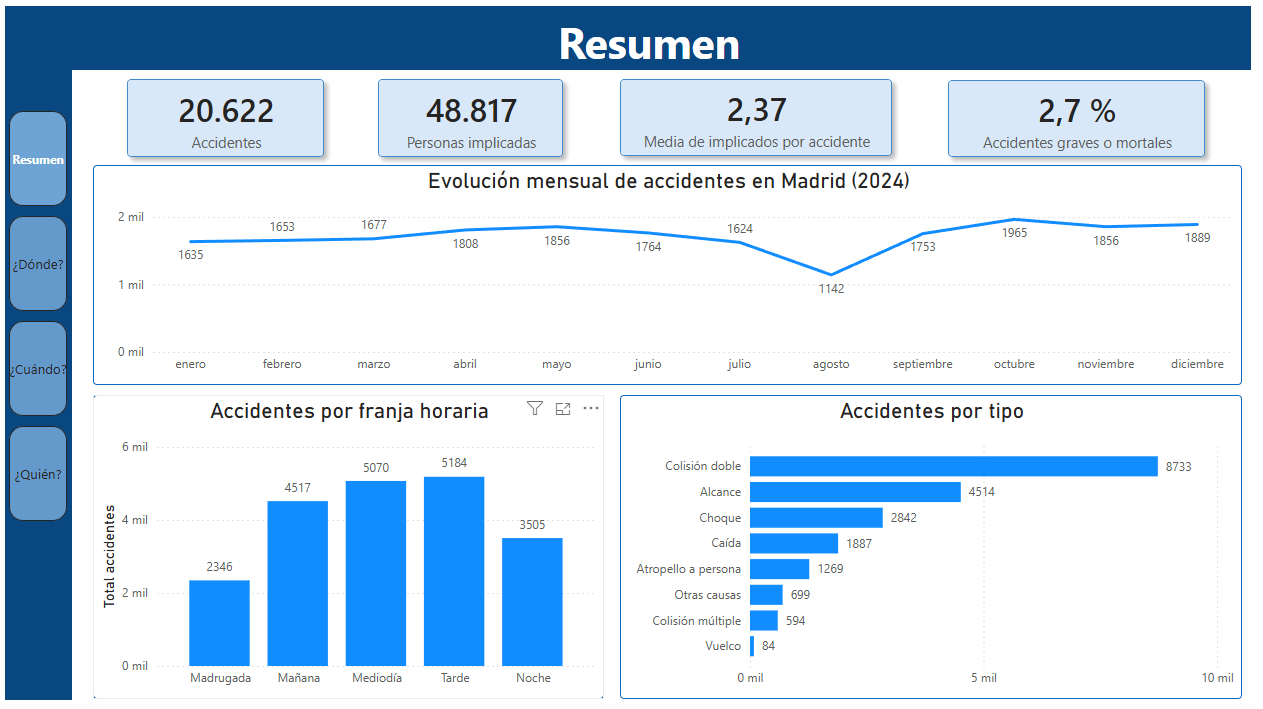

This screenshot's page, from the dashboard's own definition file:
{"tool":"powerbi","page":{"name":"Resumen","canvas":[1280,720],"ordinal":0},"visuals":[{"type":"shape","box":[16,13,67,694],"z":0},{"type":"cardVisual","title":"Número total de accidentes producidos","fields":{"Data":["_Medidas.Total accidentes (texto)"]},"box":[114.4,62.1,244.7,125.9],"z":2000},{"type":"cardVisual","fields":{"Data":["_Medidas.Total implicados (texto)"]},"box":[365.3,62.1,232.3,125.9],"z":3000},{"type":"cardVisual","fields":{"Data":["_Medidas.Implicados por accidente (media)"]},"box":[606.5,62.1,320.1,125],"z":4000},{"type":"cardVisual","fields":{"Data":["_Medidas.Porcentaje accidentes graves"]},"box":[935.5,63,305,125],"z":5000},{"type":"lineChart","title":"Evolución mensual de accidentes en Madrid (2024)","fields":{"Category":["Calendario.NombreMes"],"Y":["_Medidas.Total accidentes"]},"box":[104,171.8,1149.1,219.8],"z":6000},{"type":"clusteredColumnChart","title":"Accidentes por franja horaria","fields":{"Category":["Accidentes.franja_horaria"],"Y":["_Medidas.Total accidentes"]},"box":[104,402.1,510.8,303.9],"z":7000},{"type":"clusteredBarChart","title":"Accidentes por tipo","fields":{"Category":["Accidentes.tipo_accidente"],"Y":["_Medidas.Total accidentes"]},"box":[631.2,402.1,621.9,303.9],"z":8000},{"type":"pageNavigator","title":"Visión general","box":[20,118,58,412],"z":8001},{"type":"shape","box":[82.7,12.6,1178.8,64.2],"z":8002},{"type":"textbox","box":[510,15,299.7,71.8],"z":8003}]}

Visuals, with their boxes in screenshot pixels (x1, y1, x2, y2), scaled from the page's 1280x720 canvas onto the 1263x709 screenshot:
shape: l=16, t=13, r=82, b=696
"Número total de accidentes producidos" cardVisual: l=113, t=61, r=354, b=185
cardVisual - _Medidas.Total implicados (texto): l=360, t=61, r=590, b=185
cardVisual - _Medidas.Implicados por accidente (media): l=598, t=61, r=914, b=184
cardVisual - _Medidas.Porcentaje accidentes graves: l=923, t=62, r=1224, b=185
"Evolución mensual de accidentes en Madrid (2024)" lineChart: l=103, t=169, r=1236, b=386
"Accidentes por franja horaria" clusteredColumnChart: l=103, t=396, r=607, b=695
"Accidentes por tipo" clusteredBarChart: l=623, t=396, r=1236, b=695
"Visión general" pageNavigator: l=20, t=116, r=77, b=522
shape: l=82, t=12, r=1245, b=76
textbox: l=503, t=15, r=799, b=85
